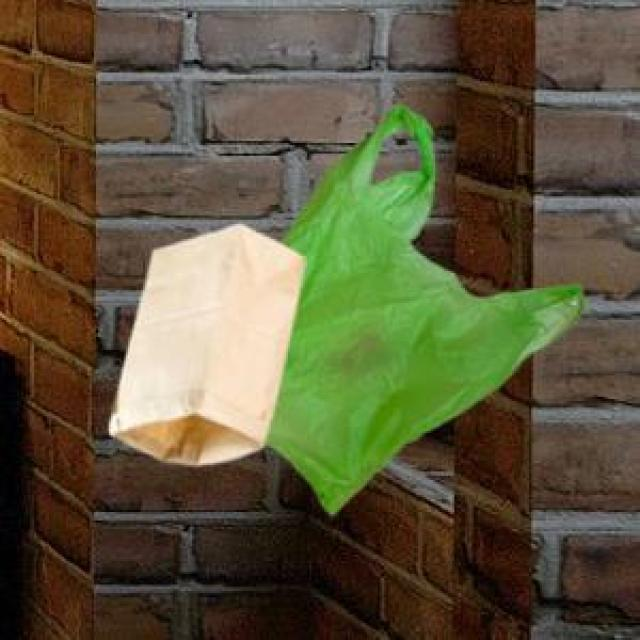paper: (107, 220, 301, 461)
